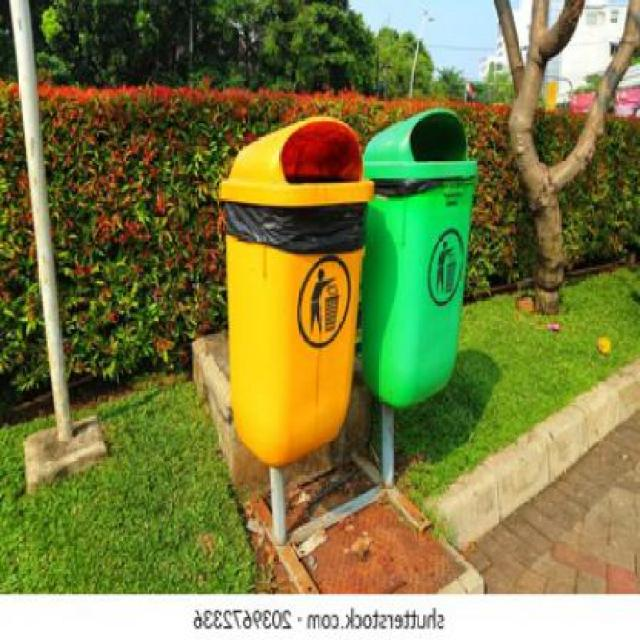garbage container: (206, 111, 371, 482), (355, 94, 490, 418)
